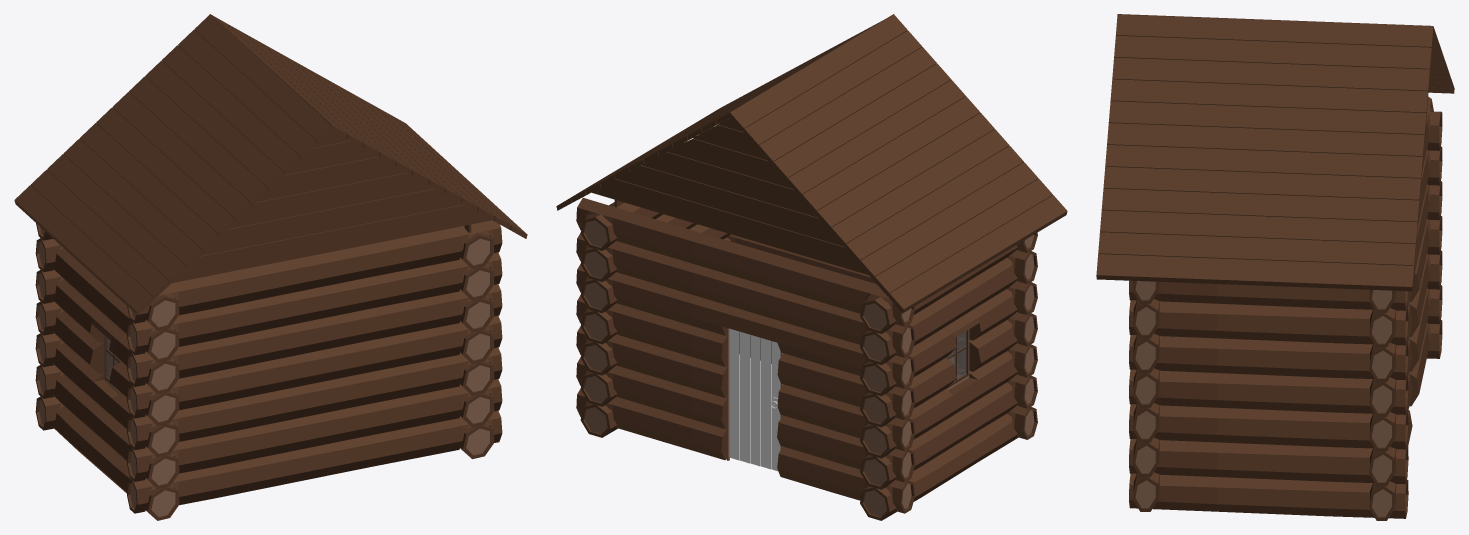
File: casita.glb
3 renders of one model, left to right at view 1: azimuth 30°, elevation 25°; view 2: azimuth 150°, elevation 25°; view 3: azimuth 270°, elevation 25°, orthographic. The views are drawn at different scales.
Visible parts, largest first — view 1: LogHutV1.007_Circle.007; view 2: LogHutV1.007_Circle.007; view 3: LogHutV1.007_Circle.007.
Boxes of the visible parts, x1,y1,x2,y2 form: LogHutV1.007_Circle.007: (14,14,527,520); LogHutV1.007_Circle.007: (556,14,1067,520); LogHutV1.007_Circle.007: (1096,14,1454,520).
Size of the model in its own units: 46.51 by 42.22 by 33.39.
